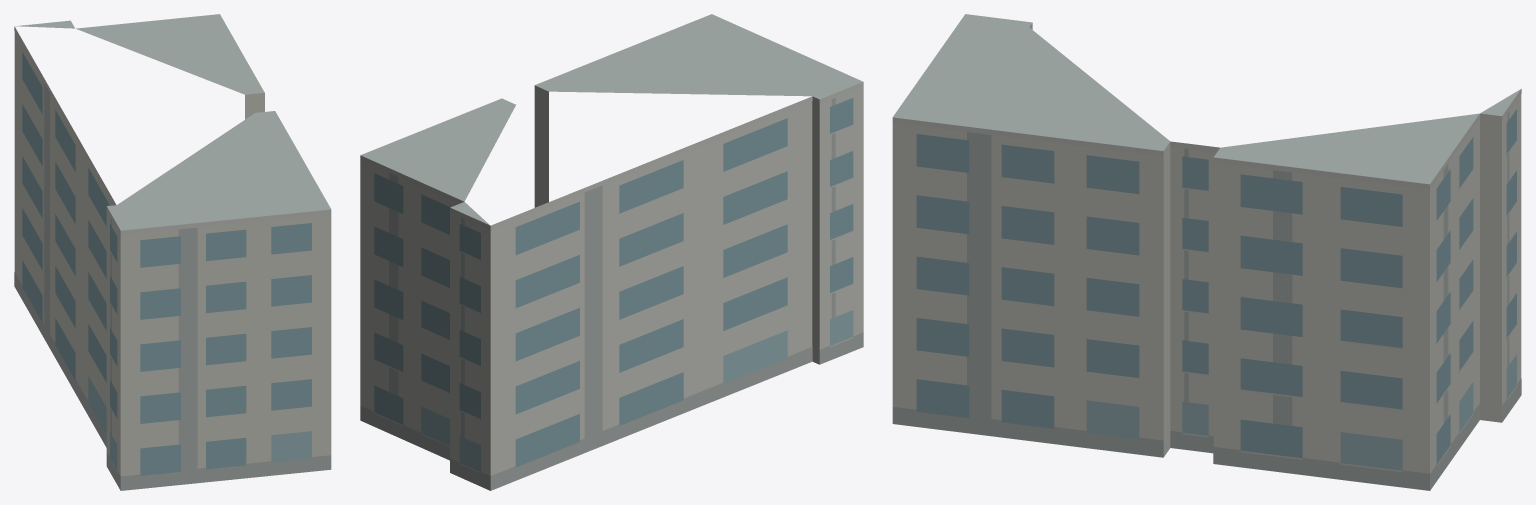
Rendered from survey-upis-33004864.glb.
3 renders of one model, left to right at view 1: azimuth 30°, elevation 25°; view 2: azimuth 150°, elevation 25°; view 3: azimuth 270°, elevation 25°, orthographic. The views are drawn at different scales.
Visible parts, largest first — view 1: survey-upis-33004864.tmp; view 2: survey-upis-33004864.tmp; view 3: survey-upis-33004864.tmp.
Boxes of the visible parts, x1=… form: survey-upis-33004864.tmp: x1=14, y1=14, x2=331, y2=490; survey-upis-33004864.tmp: x1=360, y1=14, x2=863, y2=490; survey-upis-33004864.tmp: x1=892, y1=14, x2=1521, y2=490.
Bounding box in the file's own units: 16.7 × 14 × 26.04.
